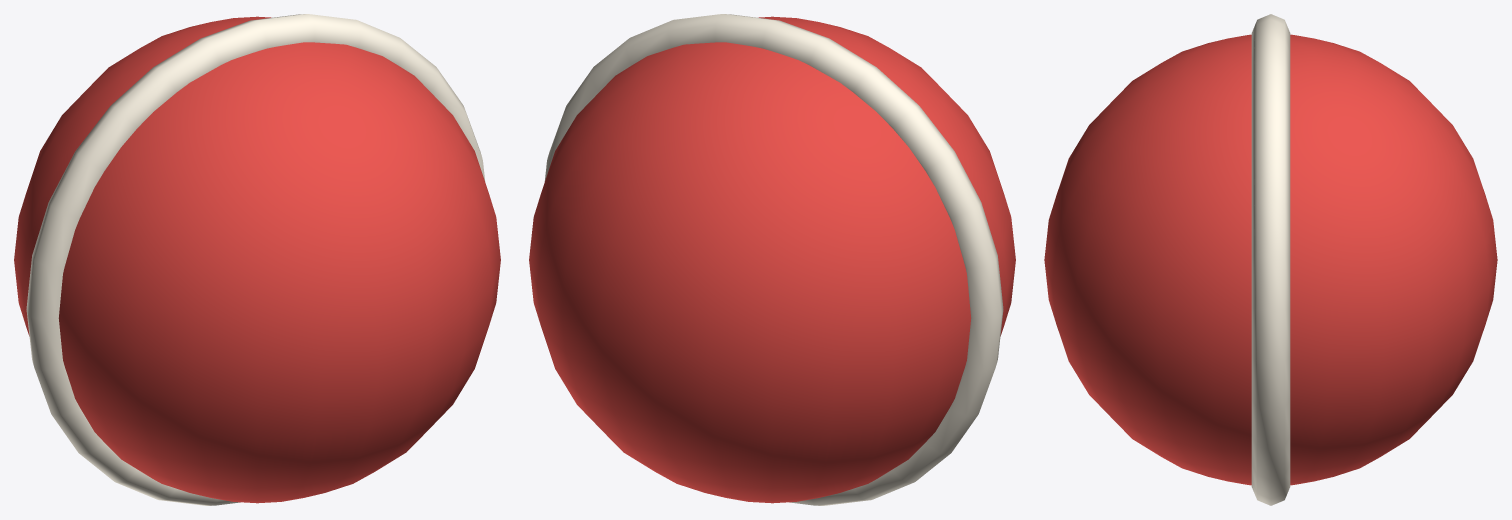
File: ball.glb
3 renders of one model, left to right at view 1: azimuth 30°, elevation 25°; view 2: azimuth 150°, elevation 25°; view 3: azimuth 270°, elevation 25°, orthographic. The views are drawn at different scales.
Visible parts, largest first — view 1: Ball, Stripe; view 2: Ball, Stripe; view 3: Ball, Stripe.
Part boxes in pixels (left/top/right/bottom): Ball: left=14, top=16, right=500, bottom=503; Stripe: left=26, top=14, right=485, bottom=505; Ball: left=529, top=16, right=1015, bottom=503; Stripe: left=544, top=14, right=1003, bottom=505; Ball: left=1044, top=34, right=1497, bottom=485; Stripe: left=1251, top=14, right=1290, bottom=505.
Bounding box in the file's own units: 0.304 × 0.304 × 0.28.
